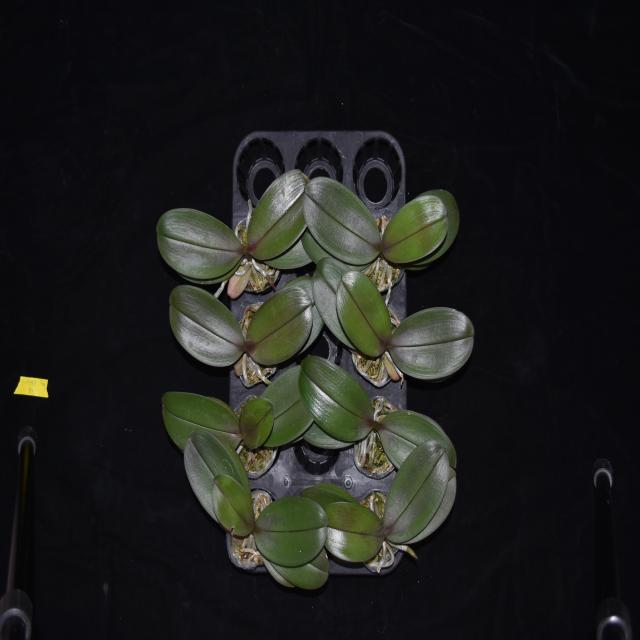leaf: (301, 174, 381, 266), (154, 202, 245, 282), (182, 421, 254, 521), (297, 355, 378, 441), (168, 280, 245, 370), (386, 307, 476, 381), (384, 436, 448, 540), (247, 276, 313, 369), (381, 186, 450, 268), (156, 391, 240, 457), (247, 168, 307, 258), (378, 406, 456, 473), (256, 487, 326, 560), (337, 270, 392, 362), (264, 361, 314, 452), (325, 499, 388, 565), (312, 256, 352, 348), (212, 459, 255, 538), (414, 472, 458, 544), (275, 542, 330, 592), (239, 394, 278, 451), (251, 242, 313, 274), (301, 419, 348, 456), (299, 483, 358, 510)
